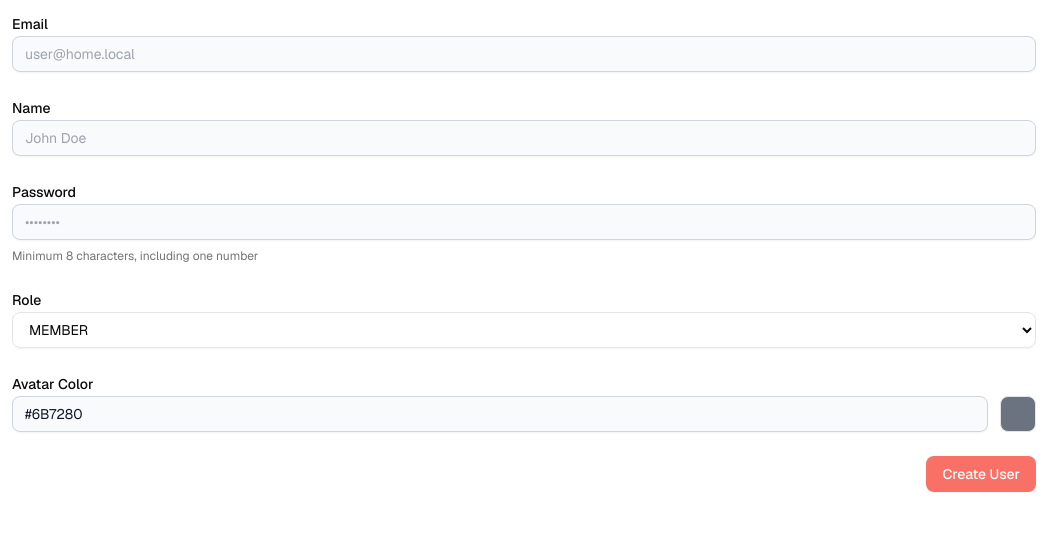
Test: UserForm Component › Form Validation › should validate password contains number (FR-004)
Type "NoNumbersHere" into the password field labelled "Password". click: (524, 222)
box: top-left (12, 204), bottom-right (1036, 240)
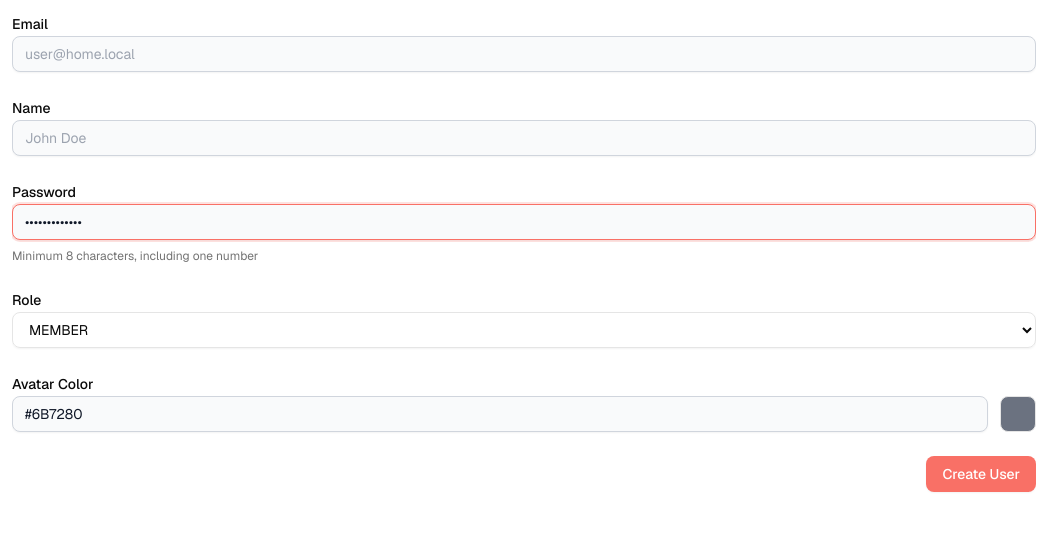
Press Tab
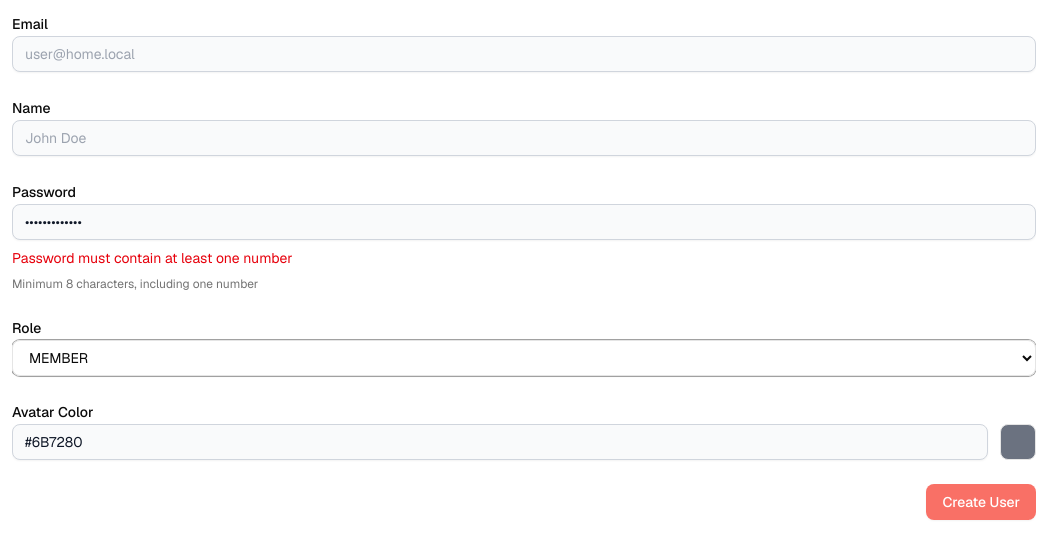
Now the text "Password must contain at least one number" is shown, box top-left (12, 249), bottom-right (292, 267)
